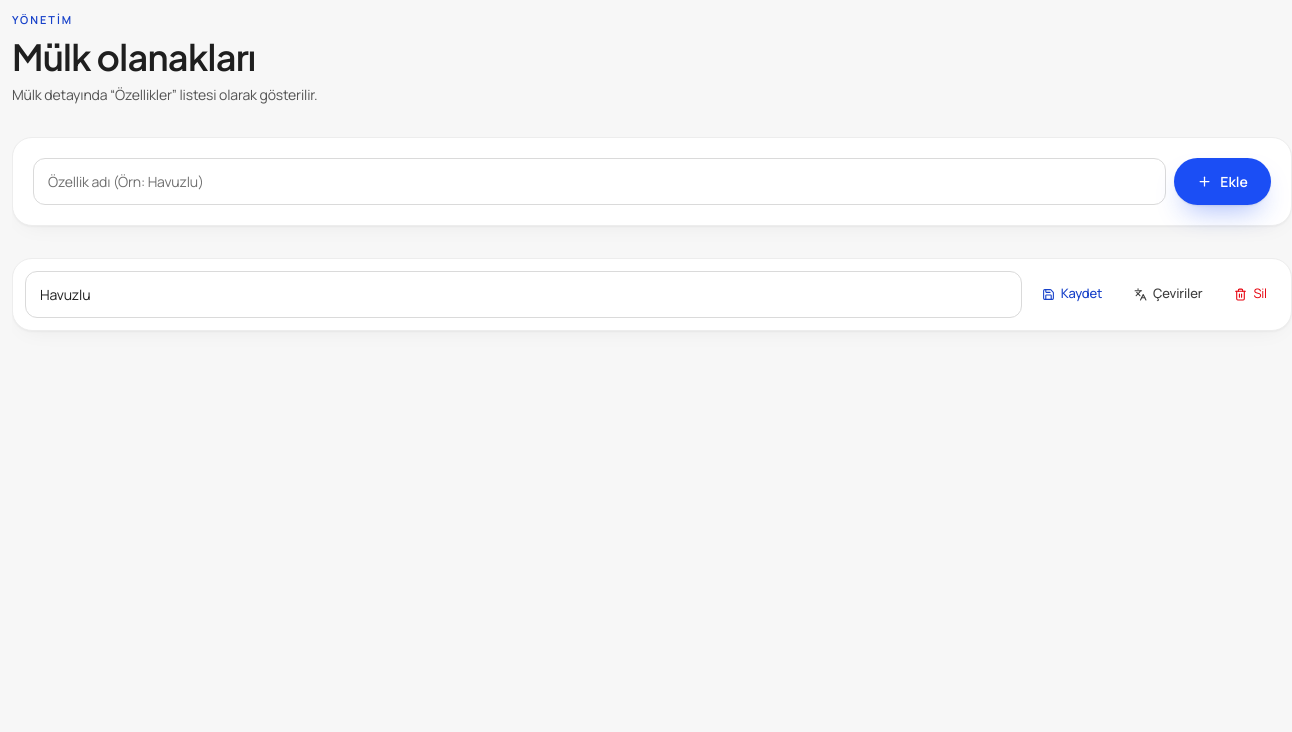
Test case: FeaturesPage — Phase 10D Batch 2 — mevcut çeviri yükleme › 6) Mevcut EN çevirisi input'a yüklenir
Click the button with aria-label "çevirileri".
click(1168, 294)  # box [1122, 276, 1214, 312]
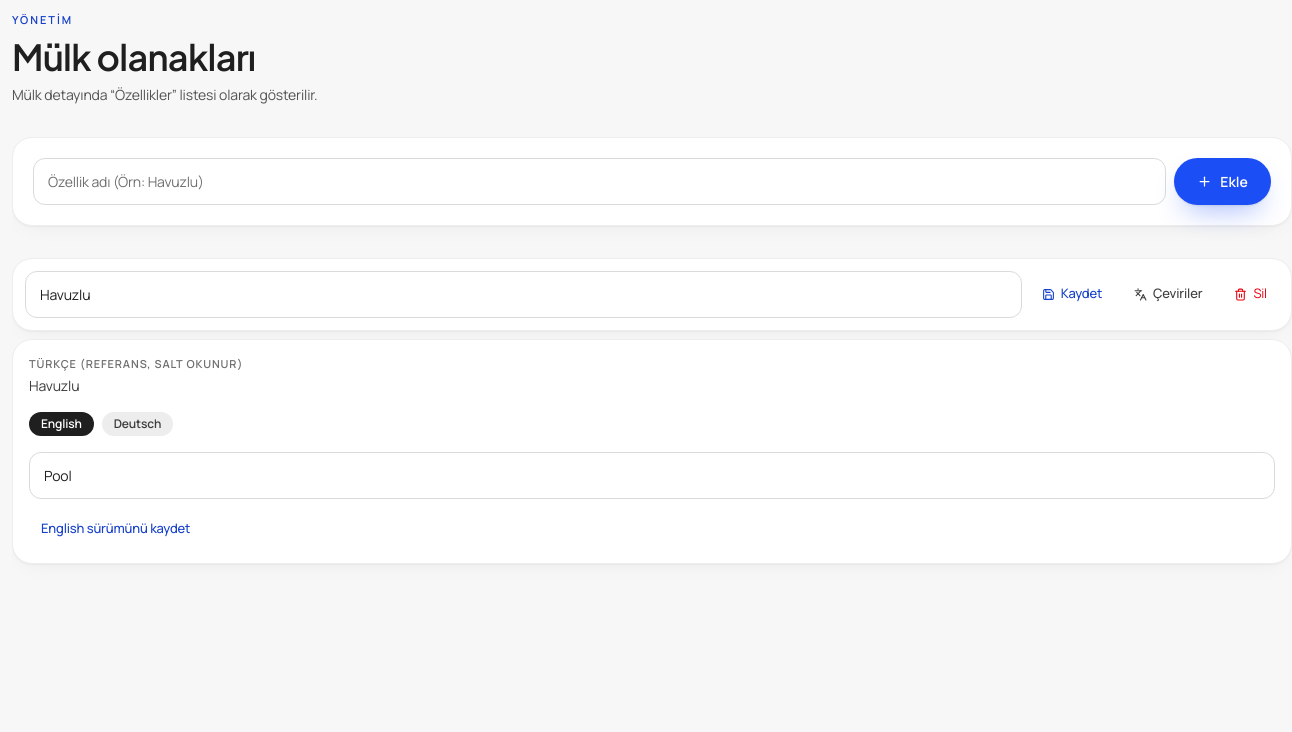
Expected: the field named "English" holds "Pool", [29, 452, 1275, 499]
